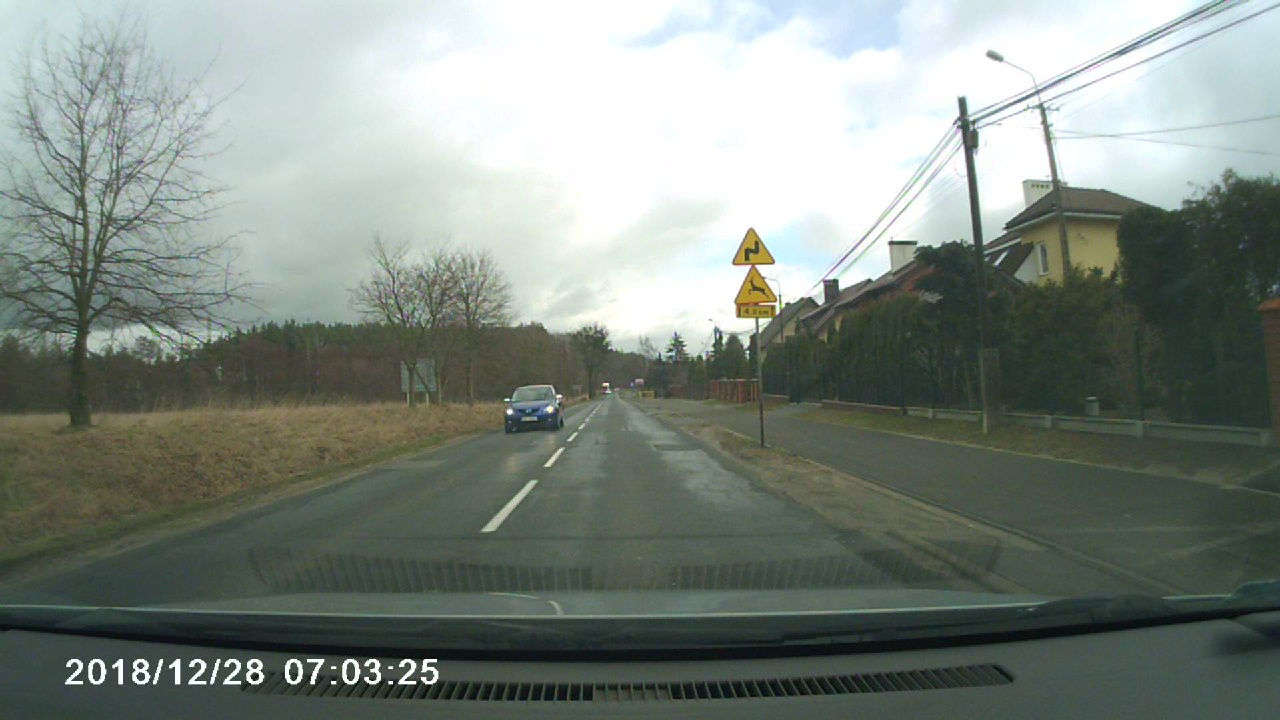A3: (728, 224, 775, 267)
